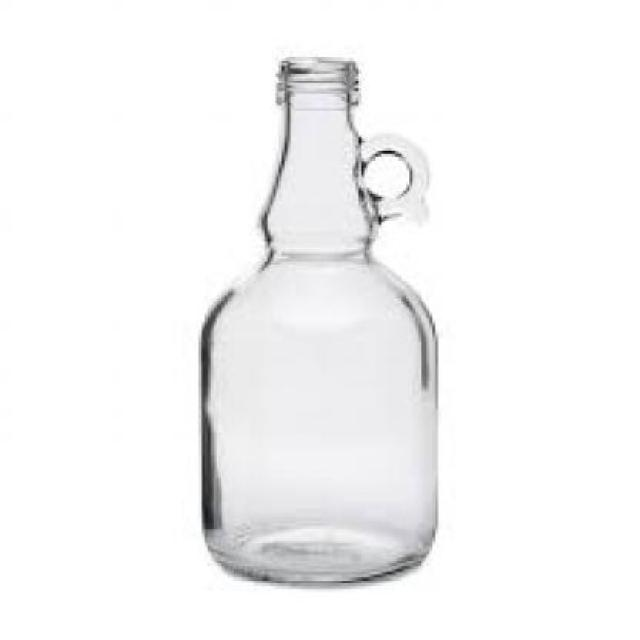kaca: (202, 51, 436, 580)
